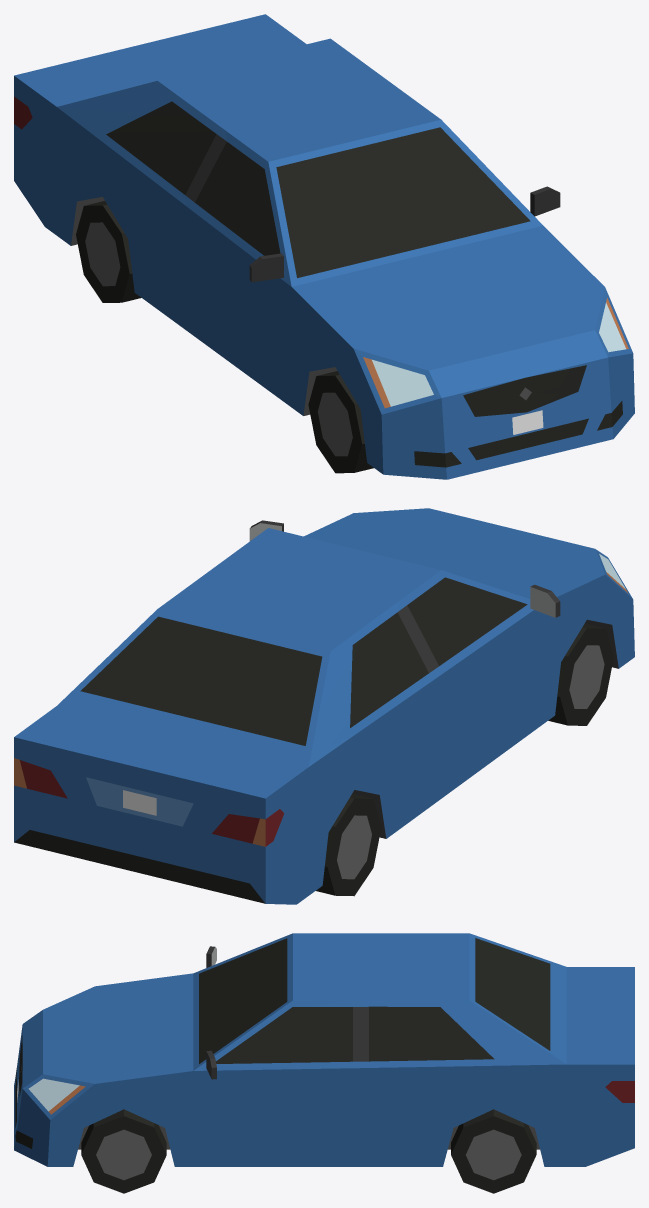
File: Veh_Sedan_03_Blue.glb
3 views of the same model, one above another, from view 1: azimuth 30°, elevation 25°; view 2: azimuth 150°, elevation 25°; view 3: azimuth 270°, elevation 25° (orthographic). The views are drawn at different scales.
Visible parts, largest first — view 1: Sedan_03_Blue, Wheel_FR, Wheel_RR; view 2: Sedan_03_Blue, Wheel_FR, Wheel_RR; view 3: Sedan_03_Blue, Wheel_RL, Wheel_FL.
Part boxes in pixels (x1=…): Sedan_03_Blue: x1=14, y1=14, x2=634, y2=479; Wheel_FR: x1=308, y1=371, x2=373, y2=473; Wheel_RR: x1=76, y1=201, x2=141, y2=302; Sedan_03_Blue: x1=14, y1=508, x2=634, y2=904; Wheel_FR: x1=548, y1=623, x2=613, y2=725; Wheel_RR: x1=316, y1=793, x2=381, y2=896; Sedan_03_Blue: x1=14, y1=933, x2=634, y2=1166; Wheel_RL: x1=451, y1=1109, x2=536, y2=1193; Wheel_FL: x1=81, y1=1109, x2=166, y2=1193.
Bounding box in the file's own units: 1.19 × 0.8272 × 2.61.
Materials: 1 (1 with a texture image).
